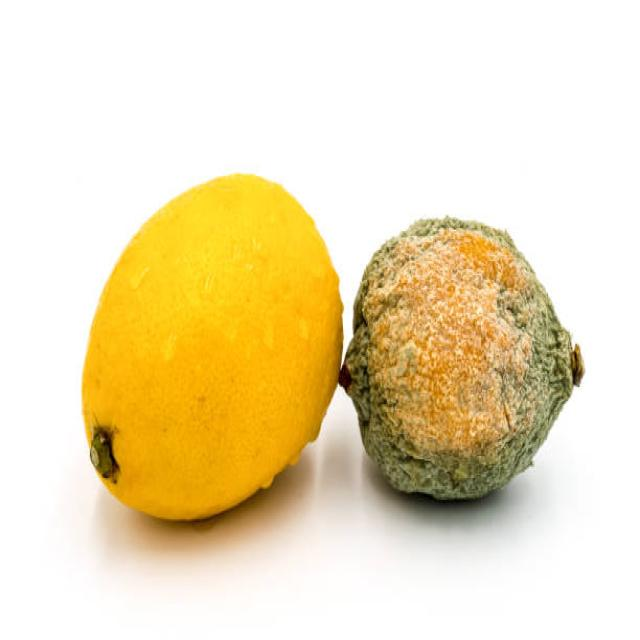Ripe: (82, 170, 344, 522)
Rotten: (338, 211, 584, 503)
